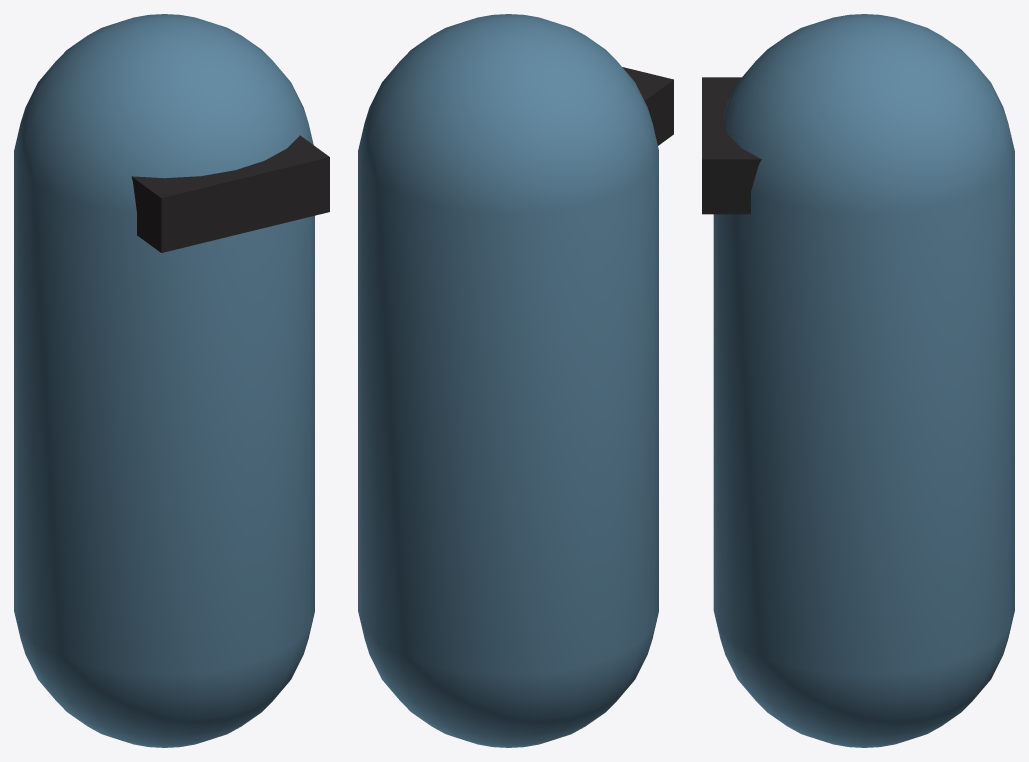
Rendered from SM_Player.fbx.
3 renders of one model, left to right at view 1: azimuth 30°, elevation 25°; view 2: azimuth 150°, elevation 25°; view 3: azimuth 270°, elevation 25°, orthographic.
Visible parts, largest first — view 1: Body, Visor; view 2: Body, Visor; view 3: Body, Visor.
Part boxes in pixels (x1=…): Body: x1=14, y1=14, x2=314, y2=747; Visor: x1=131, y1=135, x2=329, y2=252; Body: x1=358, y1=14, x2=658, y2=747; Visor: x1=622, y1=67, x2=673, y2=145; Body: x1=713, y1=14, x2=1014, y2=747; Visor: x1=702, y1=77, x2=761, y2=214.
Bounding box in the file's own units: 0.6962 × 1.8 × 0.7231.
